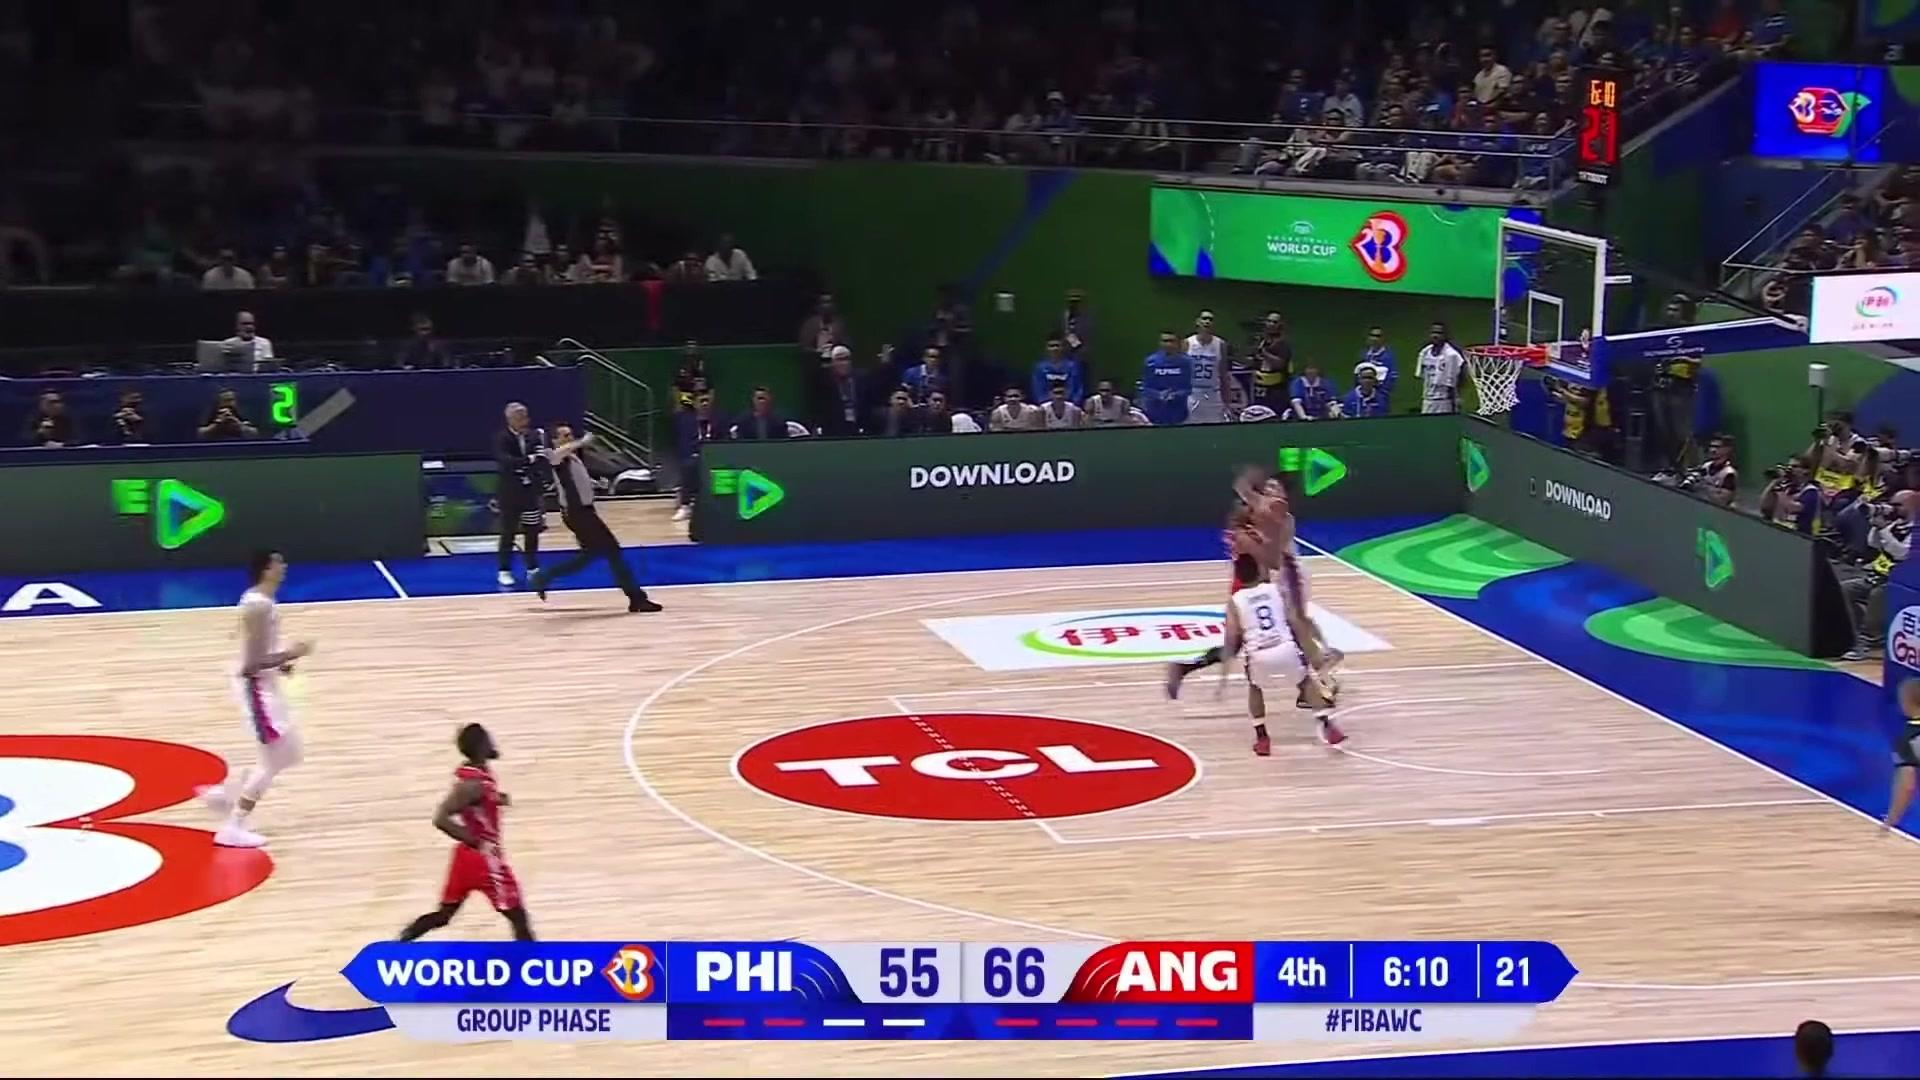foul: (1182, 460, 1353, 780)
